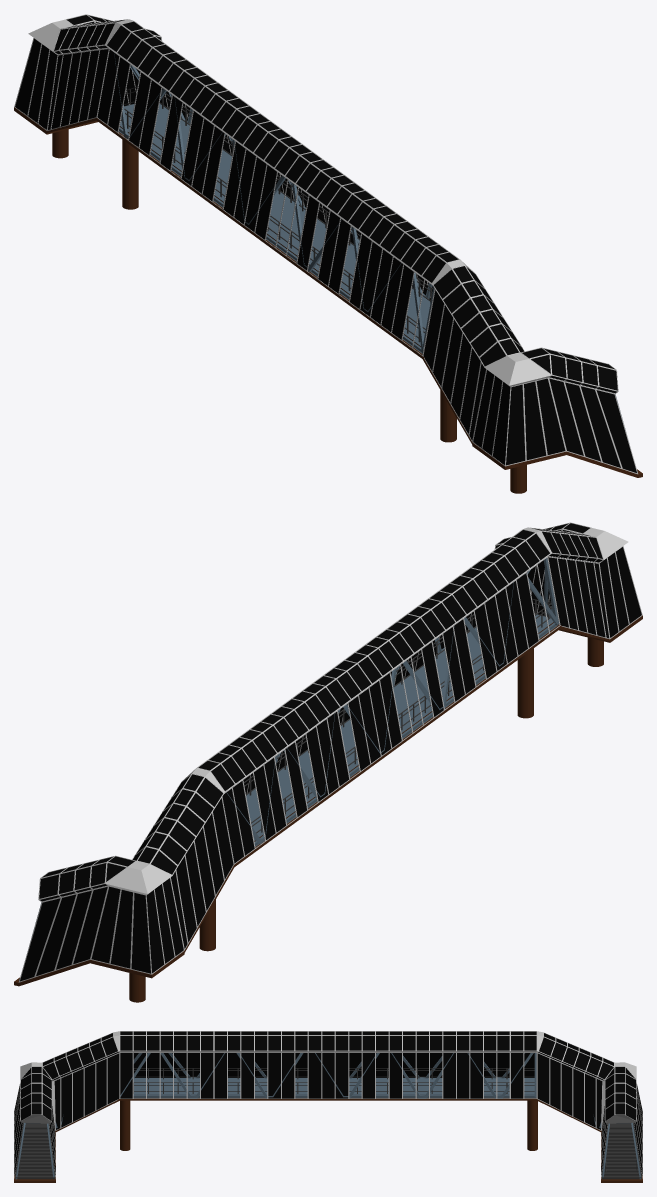
Rendered from Bridge.FBX.
The picture shows the model from 3 angles, top to bottom: view 1: azimuth 30°, elevation 25°; view 2: azimuth 150°, elevation 25°; view 3: azimuth 270°, elevation 25°; orthographic projection. The views are drawn at different scales.
Parts seen in each view (by area): view 1: Box005; view 2: Box005; view 3: Box005.
Part boxes in pixels (box(x1,y1,x2,y2)): Box005: box(14, 14, 642, 493); Box005: box(14, 522, 642, 1002); Box005: box(14, 1031, 642, 1182).
Size of the model in its own units: 797 by 1003 by 4915.
